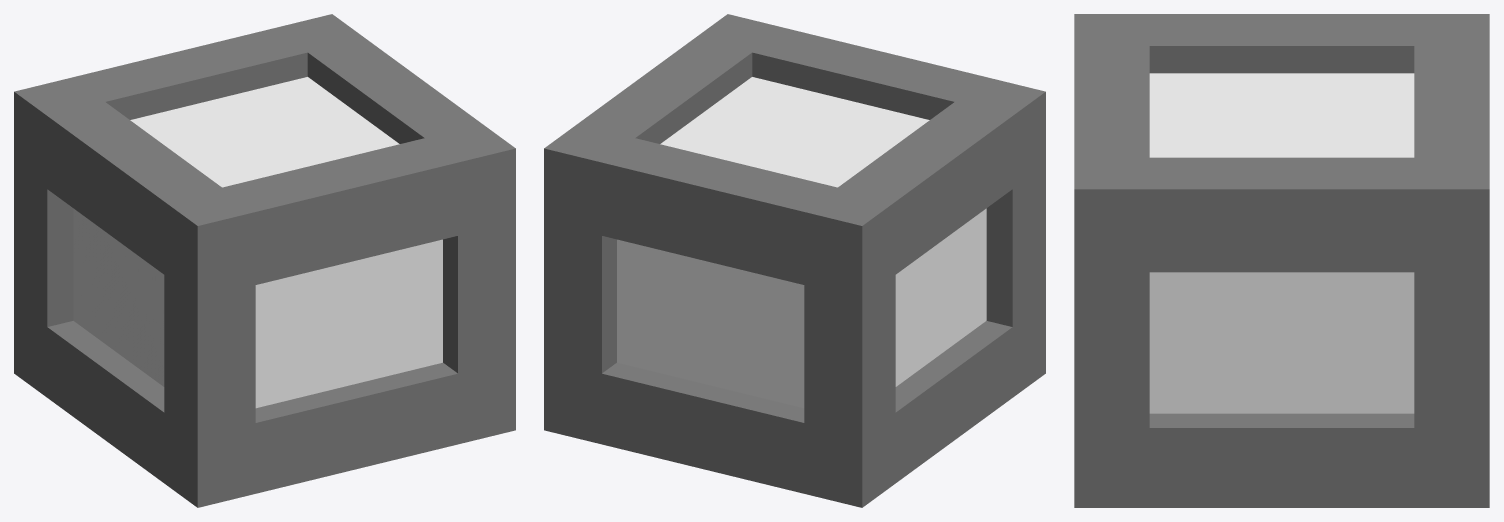
File: Light.fbx
The picture shows the model from 3 angles, left to right: view 1: azimuth 30°, elevation 25°; view 2: azimuth 150°, elevation 25°; view 3: azimuth 270°, elevation 25°; orthographic projection. The views are drawn at different scales.
Visible parts, largest first — view 1: Cube.030, Cube.031; view 2: Cube.030, Cube.031; view 3: Cube.030, Cube.031.
Boxes of the visible parts, x1,y1,x2,y2 form: Cube.030: (14, 14, 515, 507); Cube.031: (73, 77, 442, 408); Cube.030: (544, 14, 1045, 507); Cube.031: (617, 77, 986, 408); Cube.030: (1074, 14, 1489, 507); Cube.031: (1149, 73, 1414, 413).
Size of the model in its own units: 29.28 by 24.79 by 29.28.
